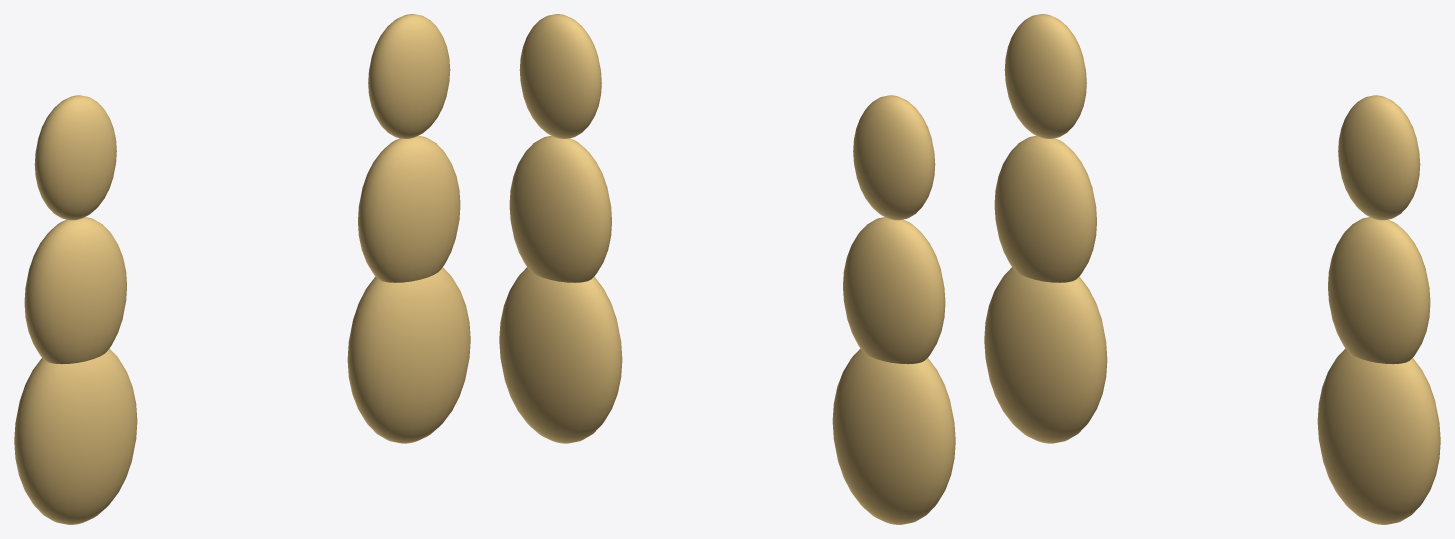
3 views of the same model, side by side, from view 1: azimuth 30°, elevation 25°; view 2: azimuth 150°, elevation 25°; view 3: azimuth 330°, elevation 25° (orthographic).
Bounding box in the file's own units: 1.62 × 1.46 × 0.252.
